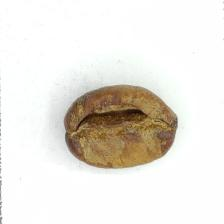NG: (76, 99, 157, 152)
